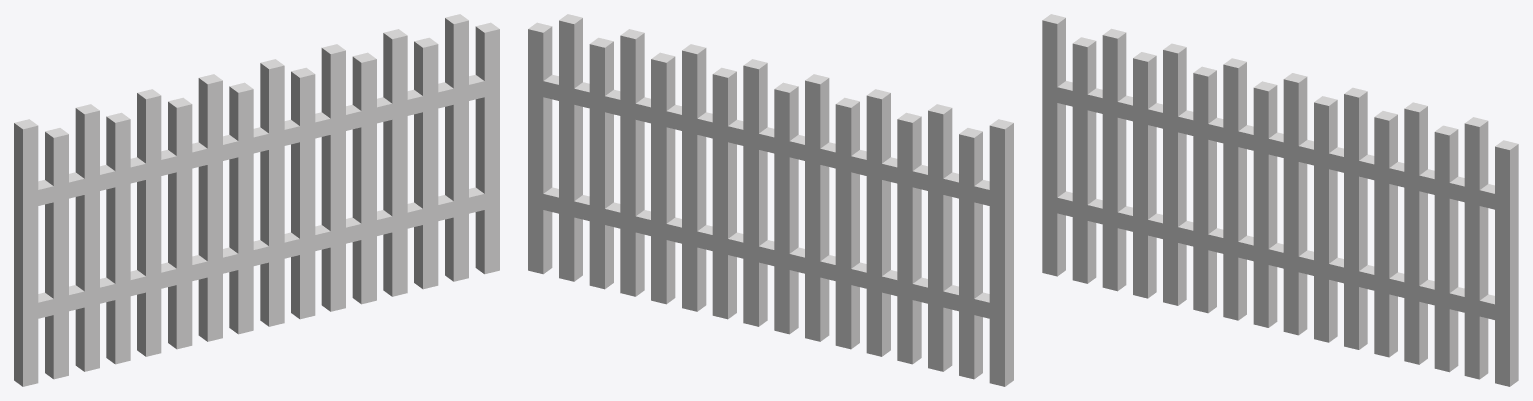
File: Fences-2-FenceWite2.obj
3 renders of one model, left to right at view 1: azimuth 30°, elevation 25°; view 2: azimuth 150°, elevation 25°; view 3: azimuth 330°, elevation 25°, orthographic. The views are drawn at different scales.
Visible parts, largest first — view 1: FenceWite2; view 2: FenceWite2; view 3: FenceWite2.
Boxes of the visible parts, x1=… form: FenceWite2: x1=14, y1=14, x2=499, y2=386; FenceWite2: x1=528, y1=14, x2=1013, y2=386; FenceWite2: x1=1042, y1=14, x2=1518, y2=386.
Bounding box in the file's own units: 3.1 × 1.6 × 0.1.
1 material, 1 textured.
